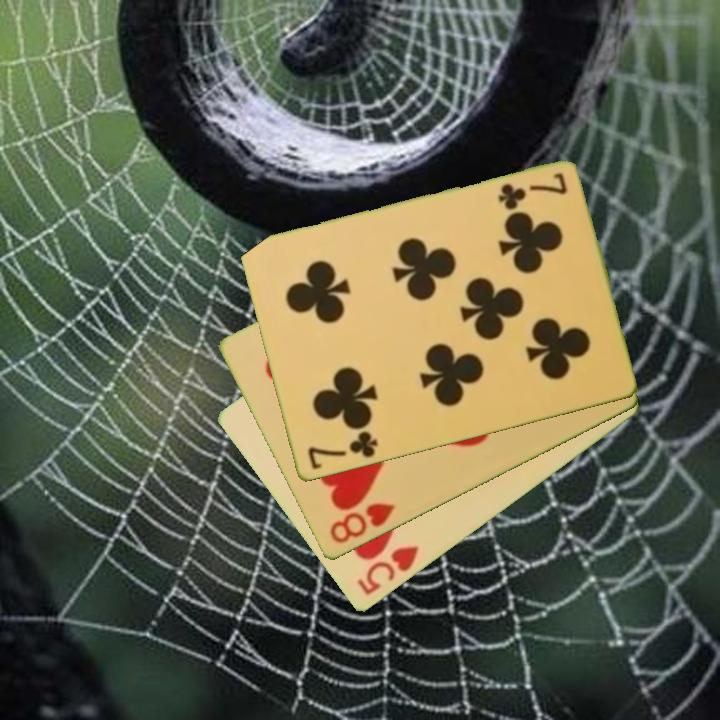5h: (353, 542, 422, 599)
7c: (304, 428, 381, 473), (494, 169, 570, 213)
8h: (325, 500, 398, 547)
